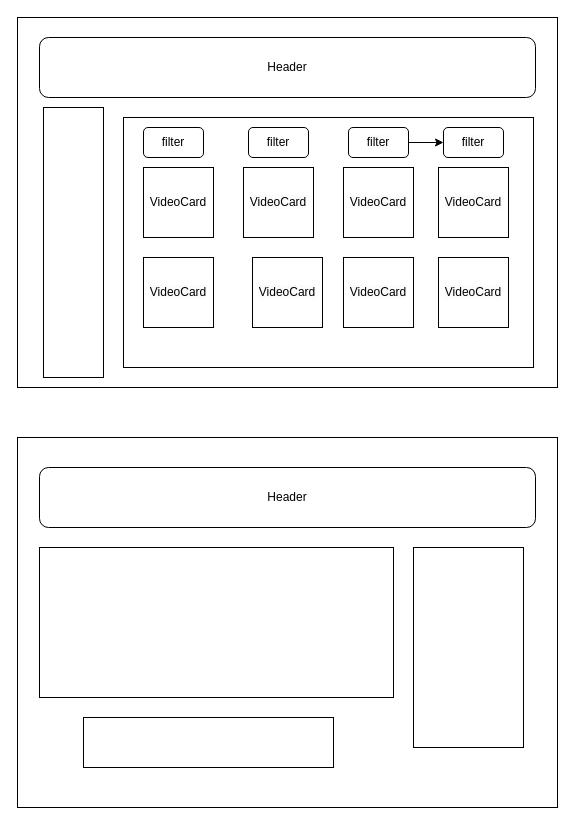
This 575x825 diagram has some shape labels left out. Here are the shapes that lost their labels. From the top down, the box of each, then its label:
(42, 106, 104, 378): Sidebar
(122, 116, 534, 368): video-container
(38, 546, 394, 698): WatchVideo
(412, 546, 524, 748): more-videos
(82, 716, 334, 768): comments
